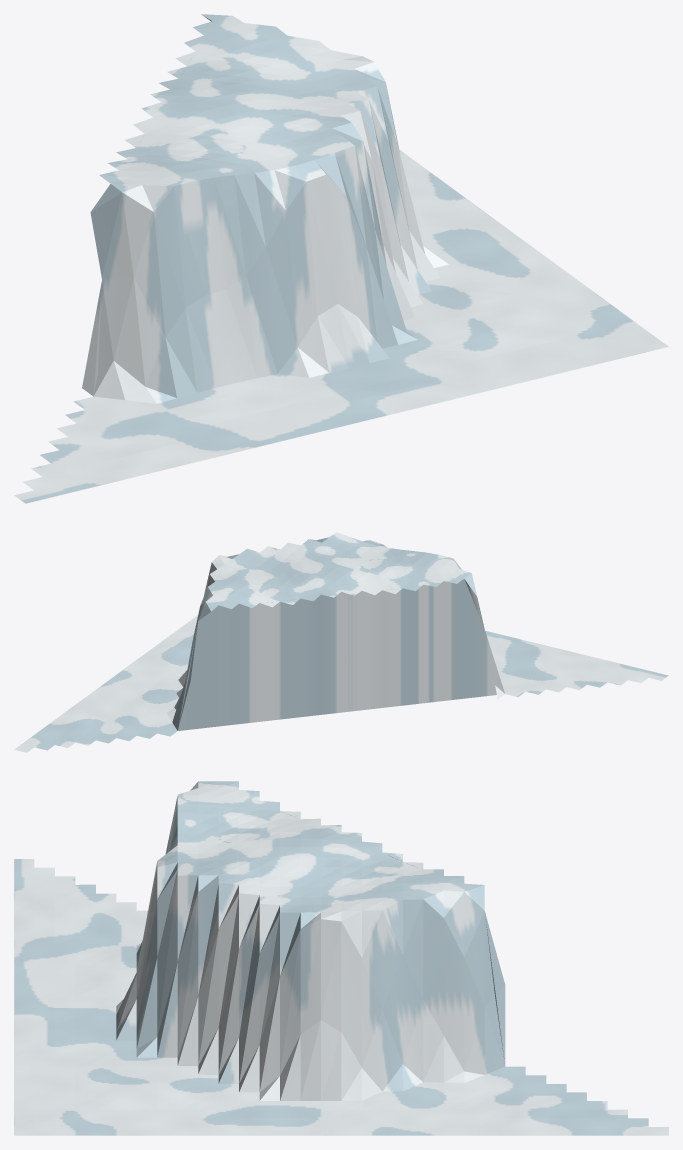
Rendered from Snow_Mountains_04_NE.obj.
3 renders of one model, top to bottom at view 1: azimuth 30°, elevation 25°; view 2: azimuth 150°, elevation 25°; view 3: azimuth 270°, elevation 25°, orthographic. The views are drawn at different scales.
Bounding box in the file's own units: 10 × 2.84 × 10.
1 material, 1 textured.
